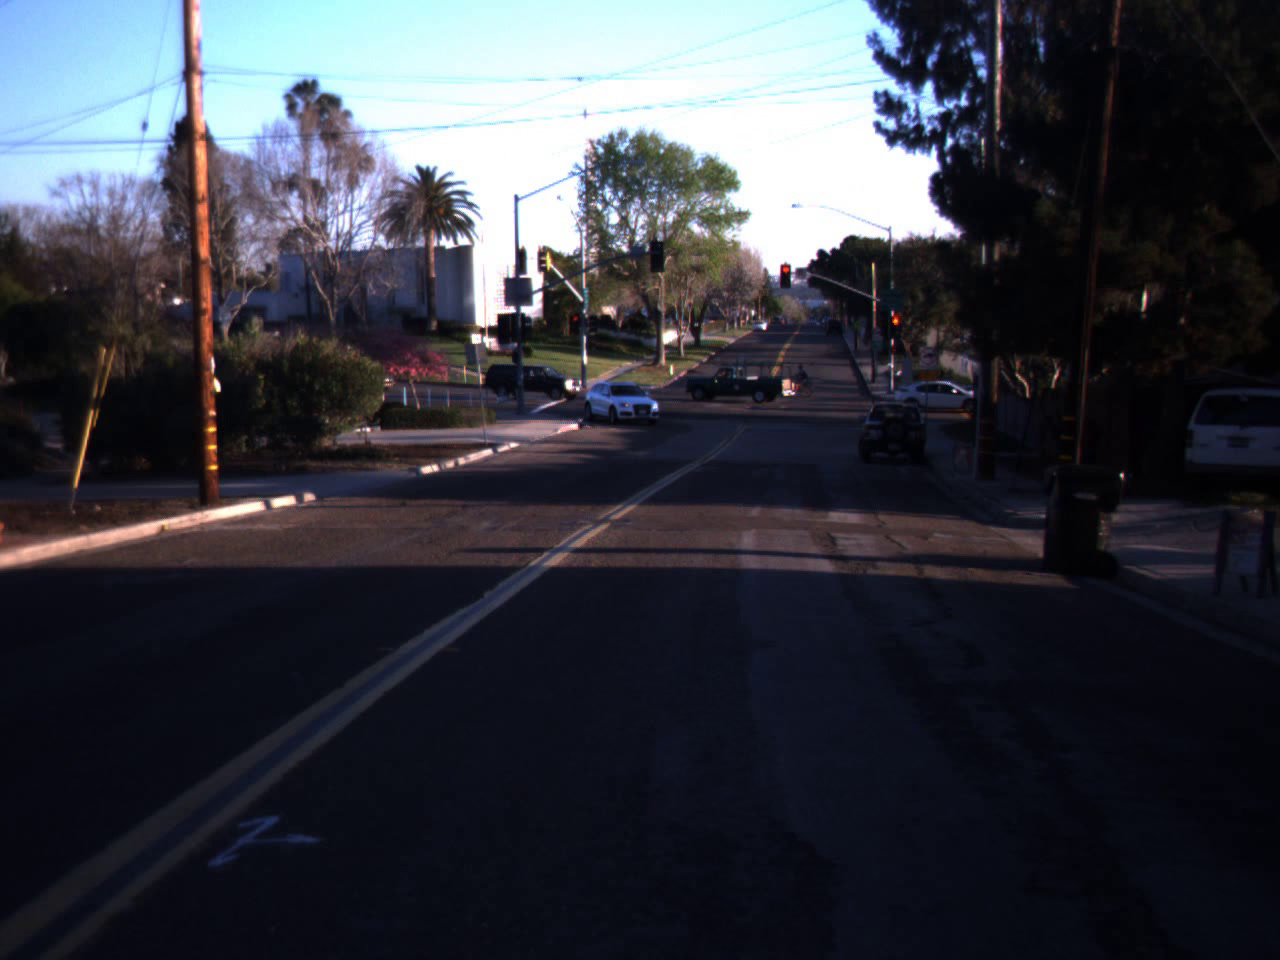stop: (888, 313, 903, 344), (779, 266, 794, 284), (570, 314, 582, 332)
